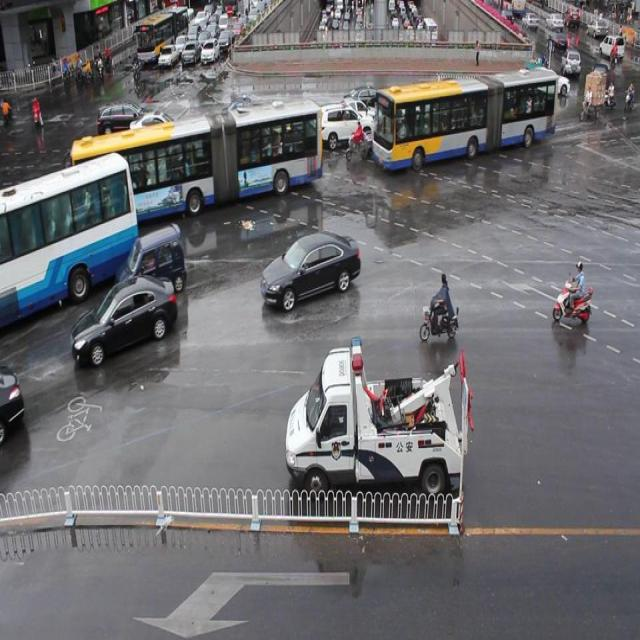bus: (286, 333, 474, 494)
car: (73, 278, 177, 362), (261, 232, 360, 308), (118, 227, 186, 294), (317, 102, 375, 146), (97, 102, 158, 143), (131, 110, 184, 157), (225, 105, 276, 153), (394, 85, 448, 125), (1, 361, 26, 441), (241, 114, 281, 160), (438, 90, 484, 129), (334, 97, 380, 129), (218, 98, 270, 126), (460, 75, 504, 108), (486, 78, 526, 114), (524, 66, 568, 98), (341, 84, 384, 116), (512, 75, 549, 110)
van: (71, 101, 322, 215), (1, 156, 141, 322), (374, 71, 557, 168)
